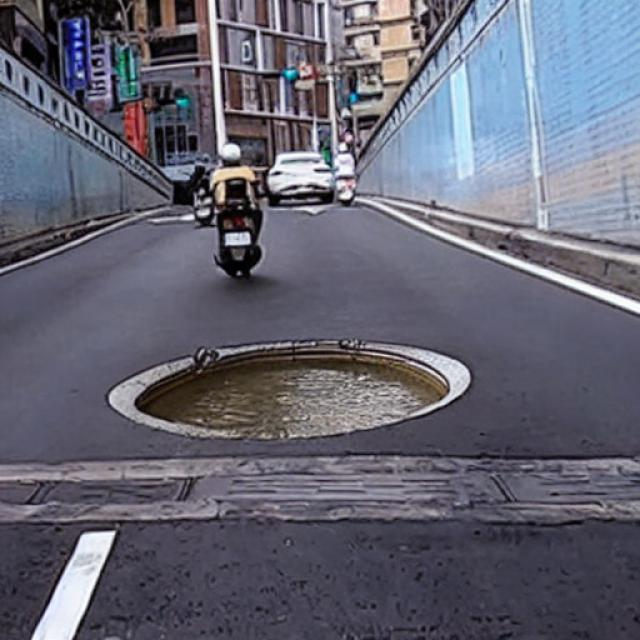puddle: (140, 346, 452, 434)
